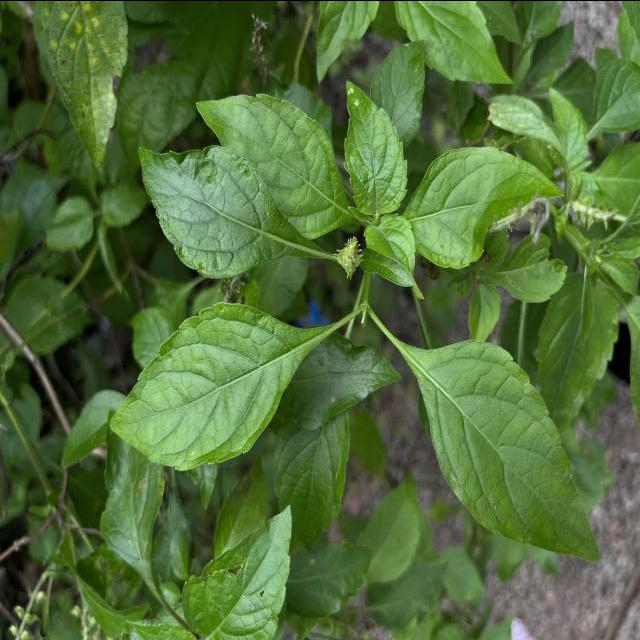Ocimum gratissimum: (390, 335, 602, 566), (105, 299, 364, 472), (135, 140, 334, 280), (190, 90, 358, 244), (401, 143, 568, 271), (177, 500, 296, 640), (391, 0, 516, 88), (340, 77, 412, 218)
